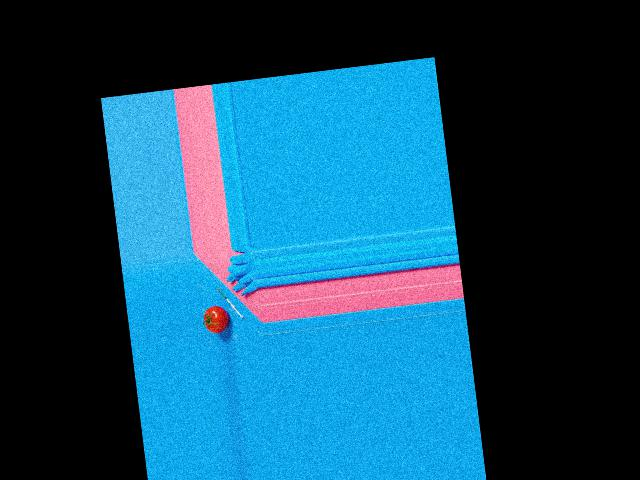tomato: (203, 304, 230, 333)
